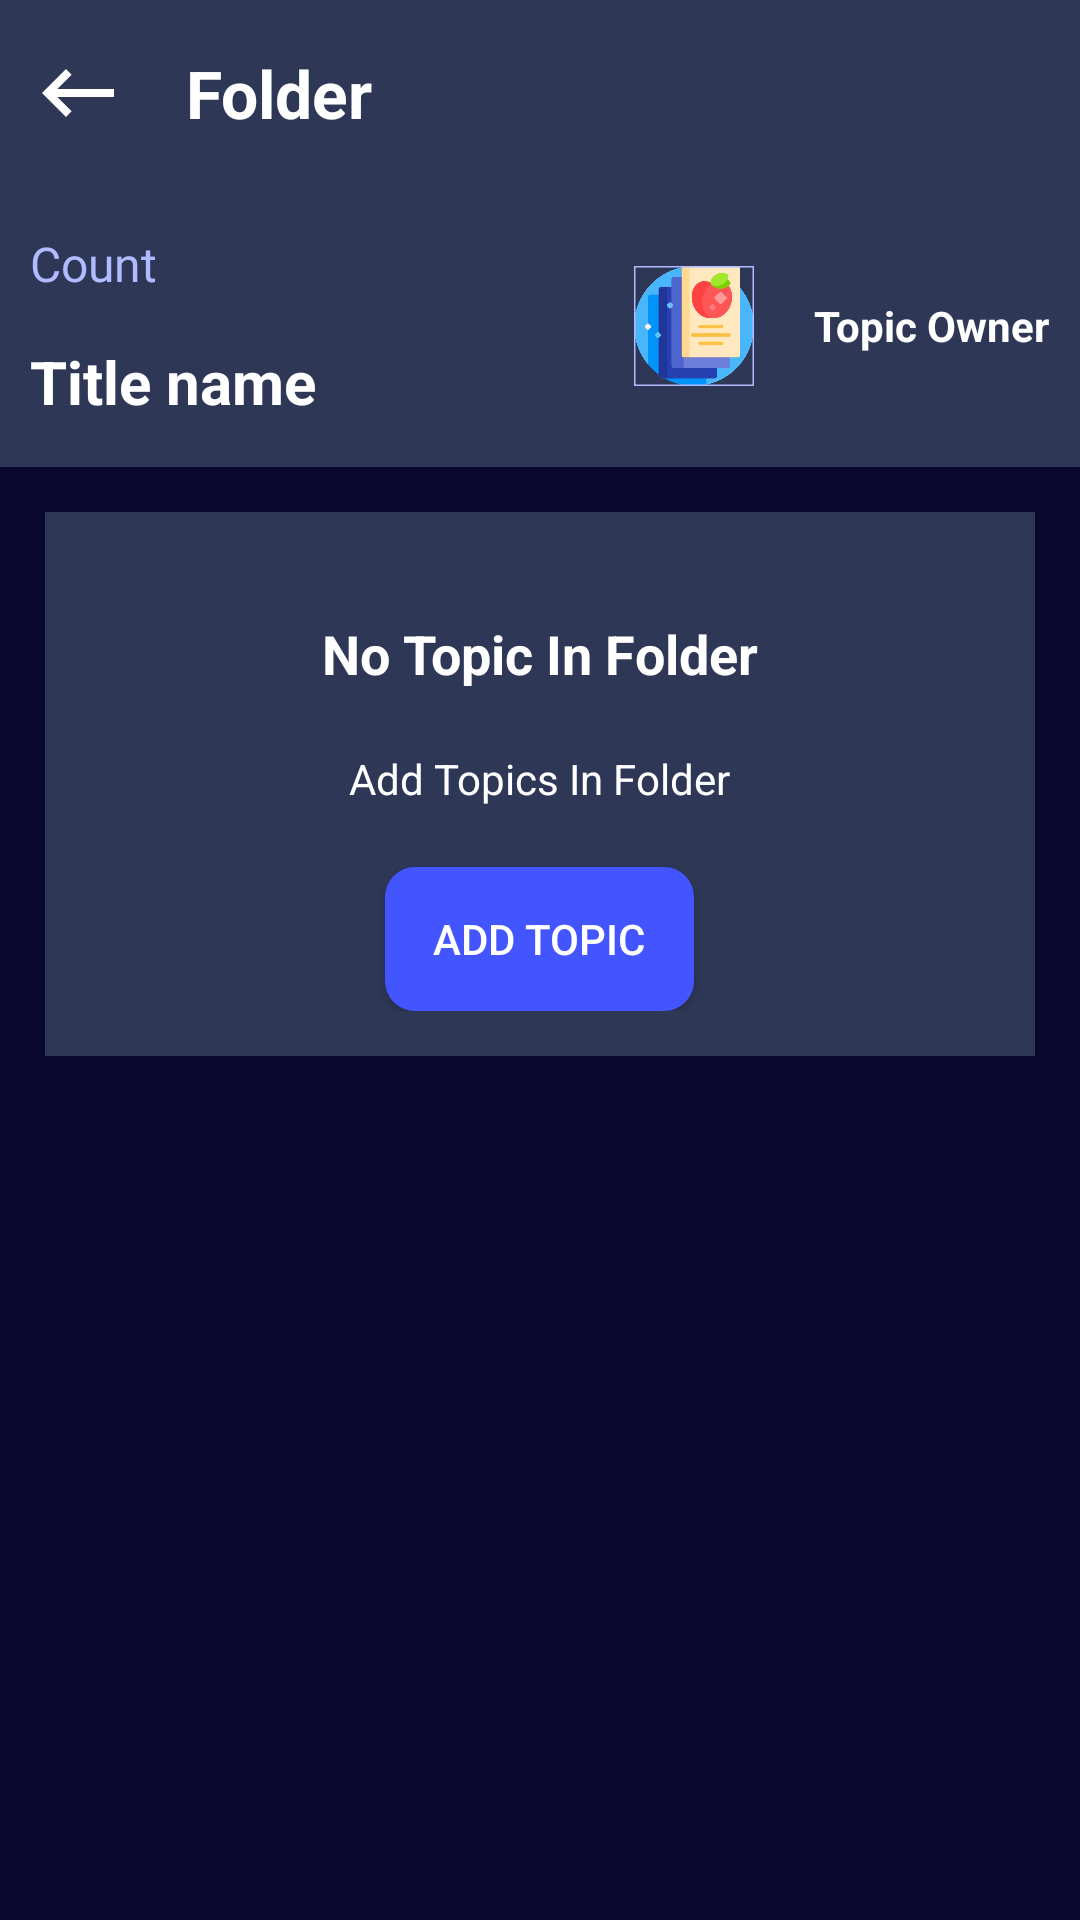

Where to tap for icons on this 1080w x 1920h app screen, as point (x, y):
flashcard: point (694, 326)
keyboard backspace: point (78, 93)
